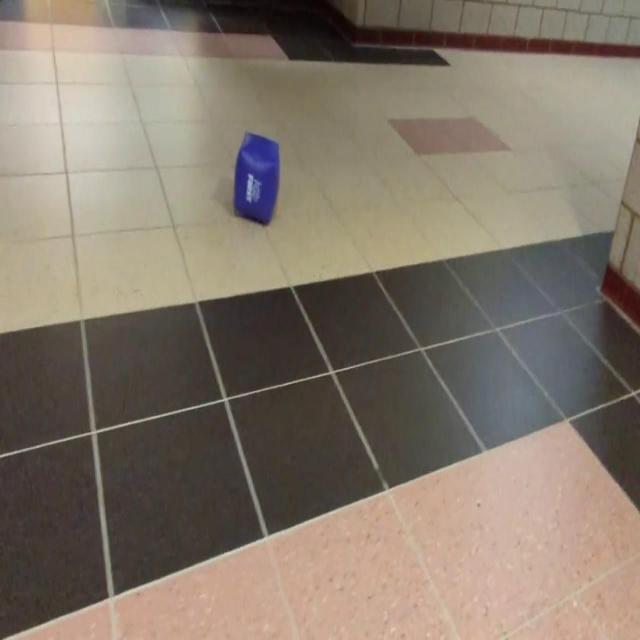frc_cube: (232, 132, 278, 225)
